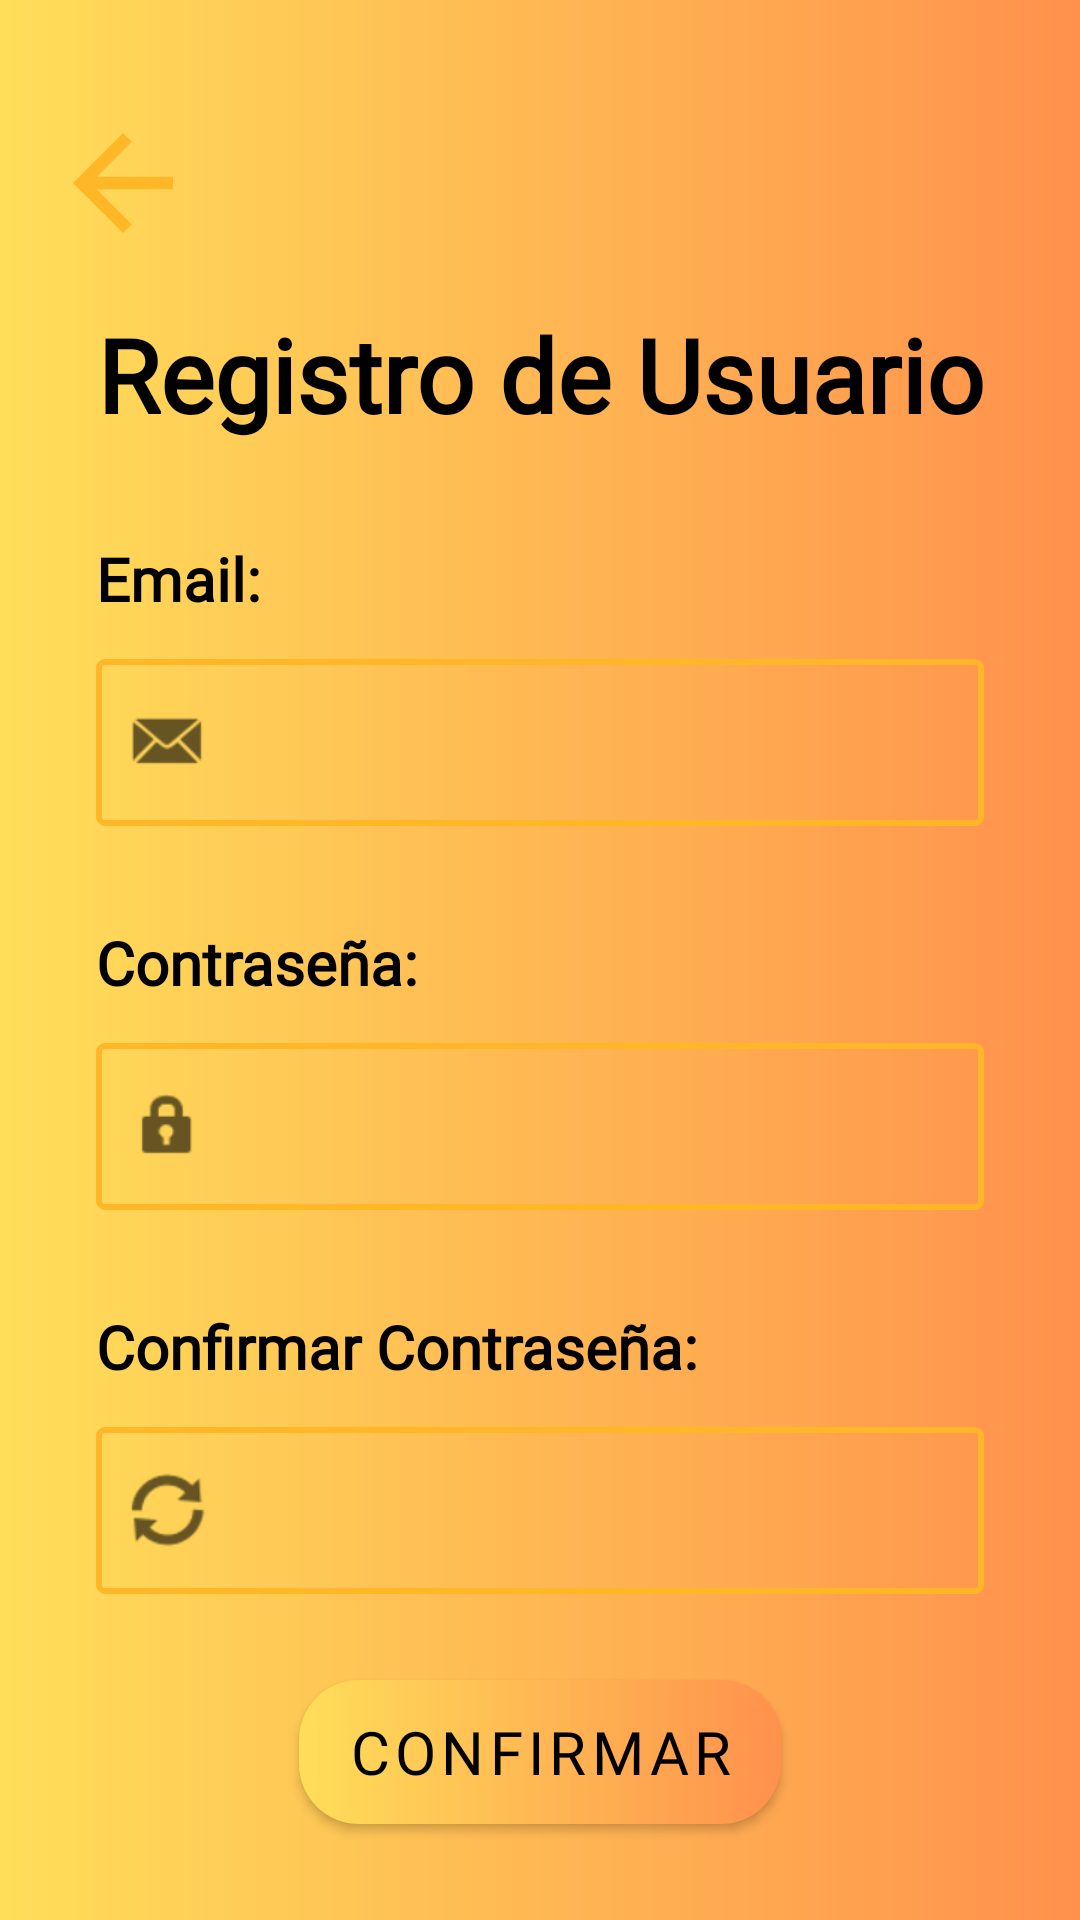

Icon bounding boxes for this 1080px×1920px phone screenshot, format (x1,y1,x2,y2):
Imagen de botón retroceso: (74,134,173,233)
